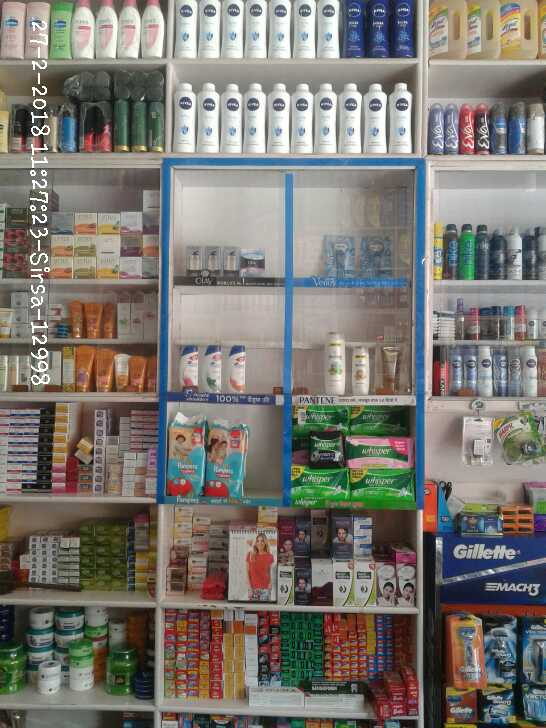venus: (325, 237, 357, 278), (362, 238, 391, 276)
